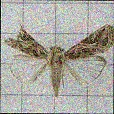Spodoptera litura: (3, 24, 113, 98)
